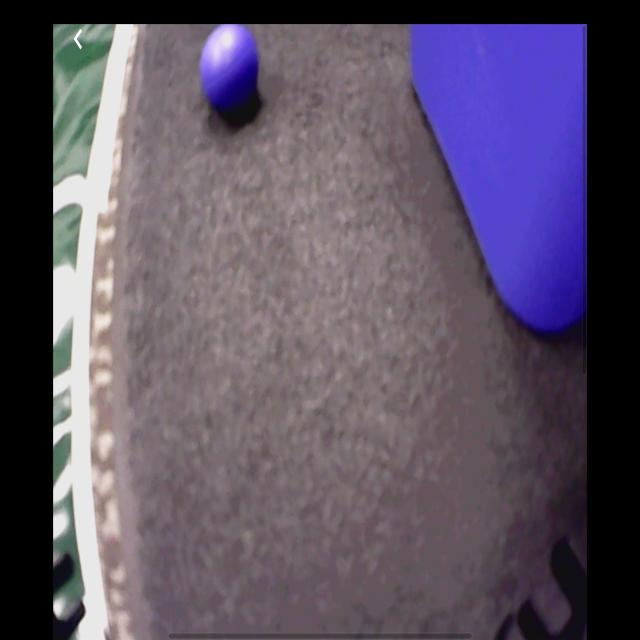ball: (199, 26, 259, 113)
